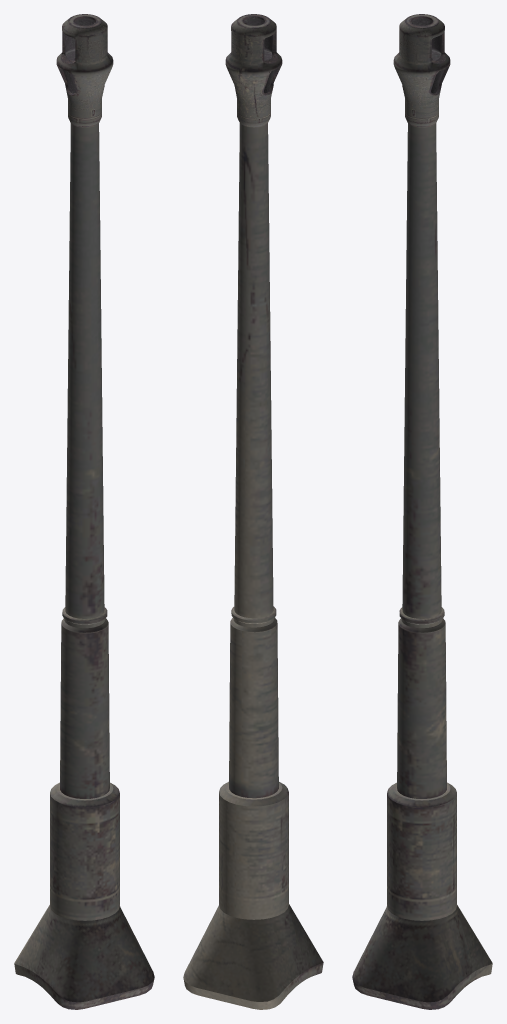
File: Gun_01.glb
The picture shows the model from 3 angles, left to right: view 1: azimuth 30°, elevation 25°; view 2: azimuth 150°, elevation 25°; view 3: azimuth 330°, elevation 25°; orthographic projection.
Visible parts, largest first — view 1: set_0_group_0; view 2: set_0_group_0; view 3: set_0_group_0.
Part boxes in pixels (x1,y1,x2,y2): set_0_group_0: [14, 14, 154, 1009]; set_0_group_0: [183, 14, 323, 1009]; set_0_group_0: [352, 14, 492, 1009].
Size of the model in its own units: 0.5219 by 5.07 by 0.5663.
Materials: 1 (1 with a texture image).
